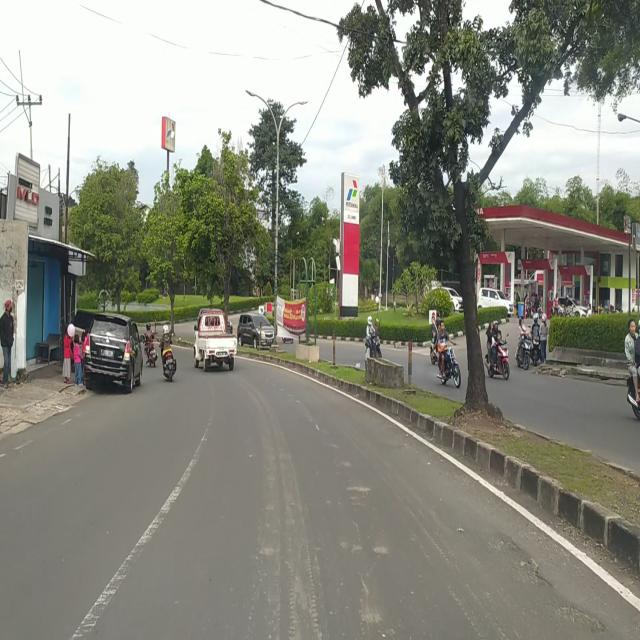Drain Hole: (554, 604, 607, 634), (508, 556, 552, 590), (487, 533, 521, 556)
